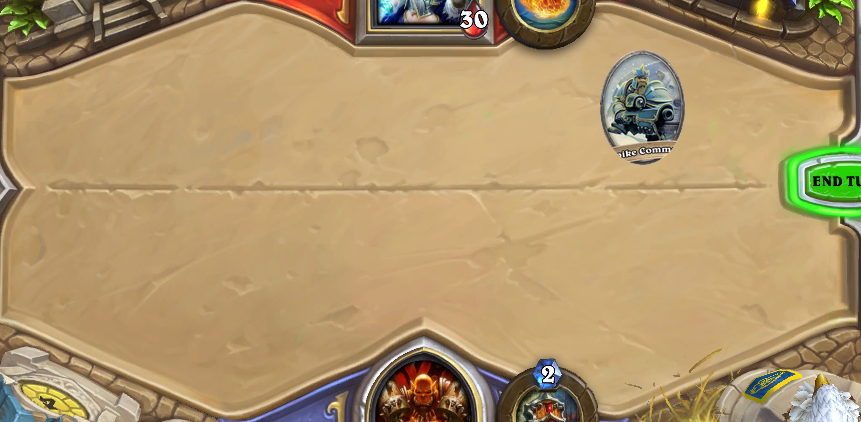CS2_150: (598, 50, 686, 165)
